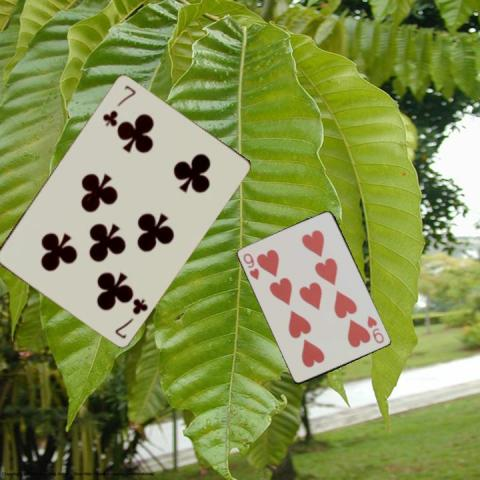7c: (100, 82, 138, 128), (111, 295, 149, 340)
9h: (365, 313, 386, 345), (240, 250, 261, 281)
